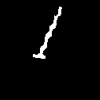half_double_crochet: (33, 7, 61, 58)
